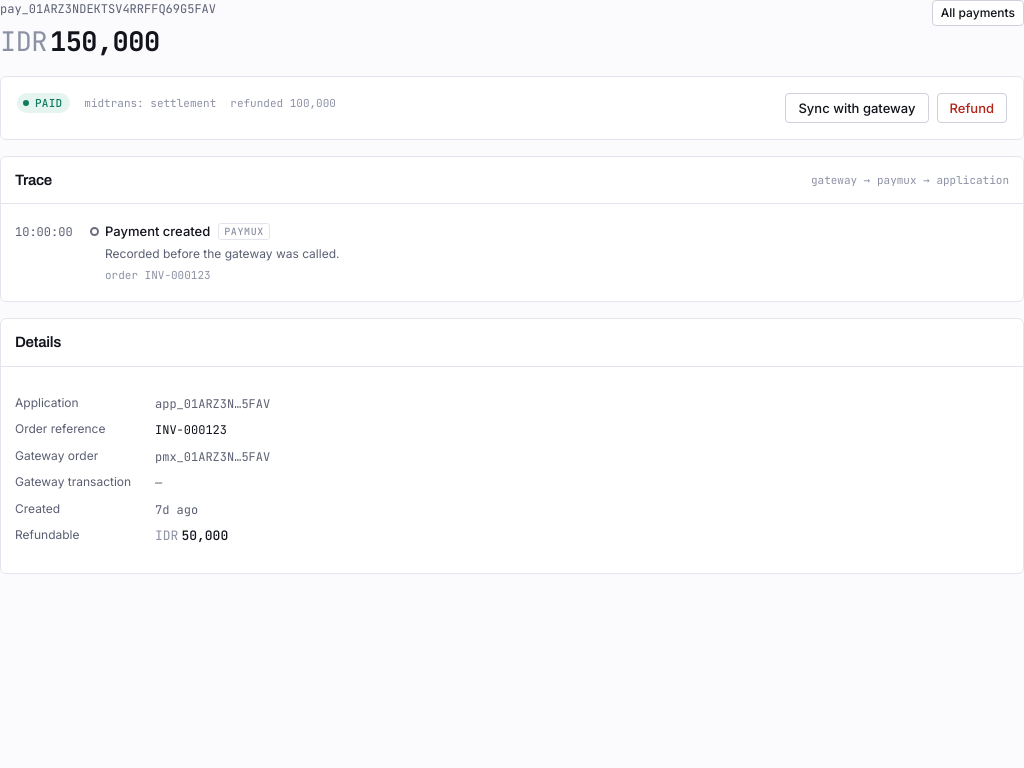
Test: reading a payment › caps a refund at the refundable balance
Click the button "Refund" at (972, 108), box [936,92,1007,122]
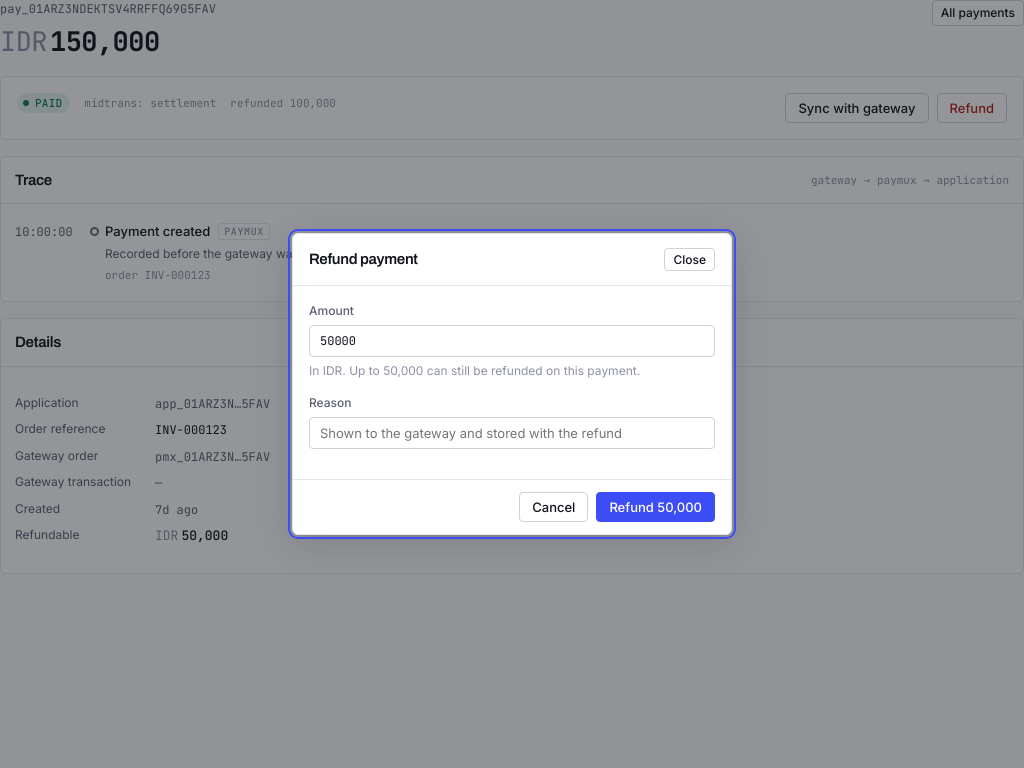
Replace the text in the field labelled "Amount" with "90000" at (512, 341), box [309,325,715,357]
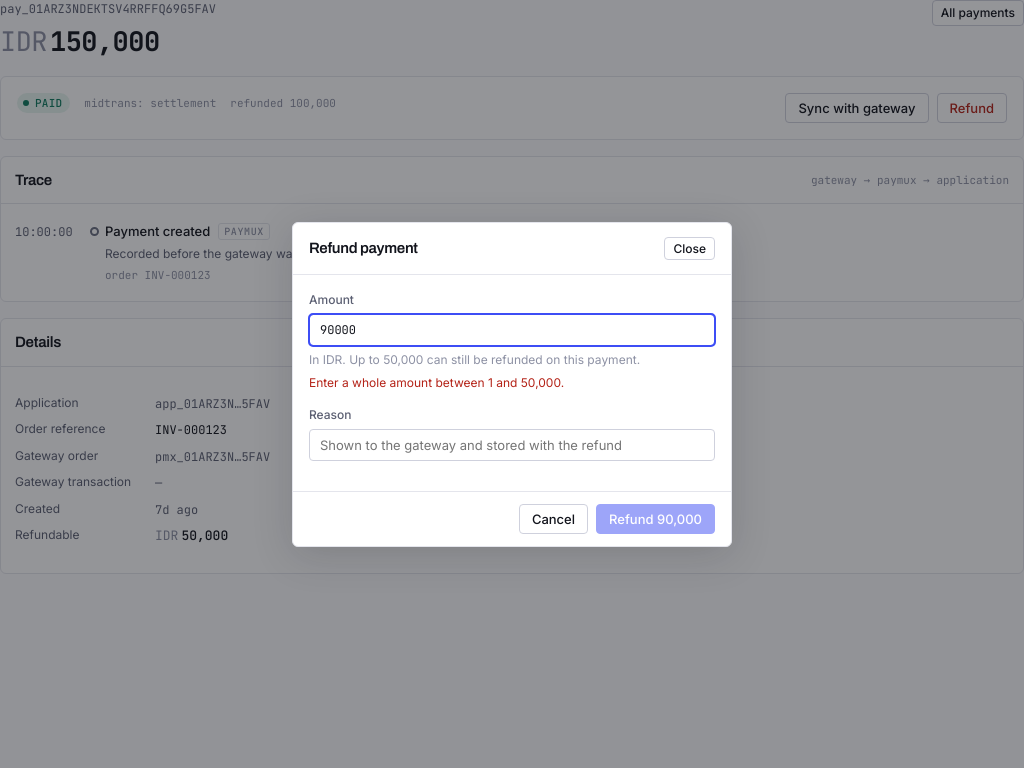
Expected: the button "Refund 90,000" is disabled, [596,504,715,534]
Expected: the text "Enter a whole amount between 1 and 50,000." is shown, [309,374,564,390]
